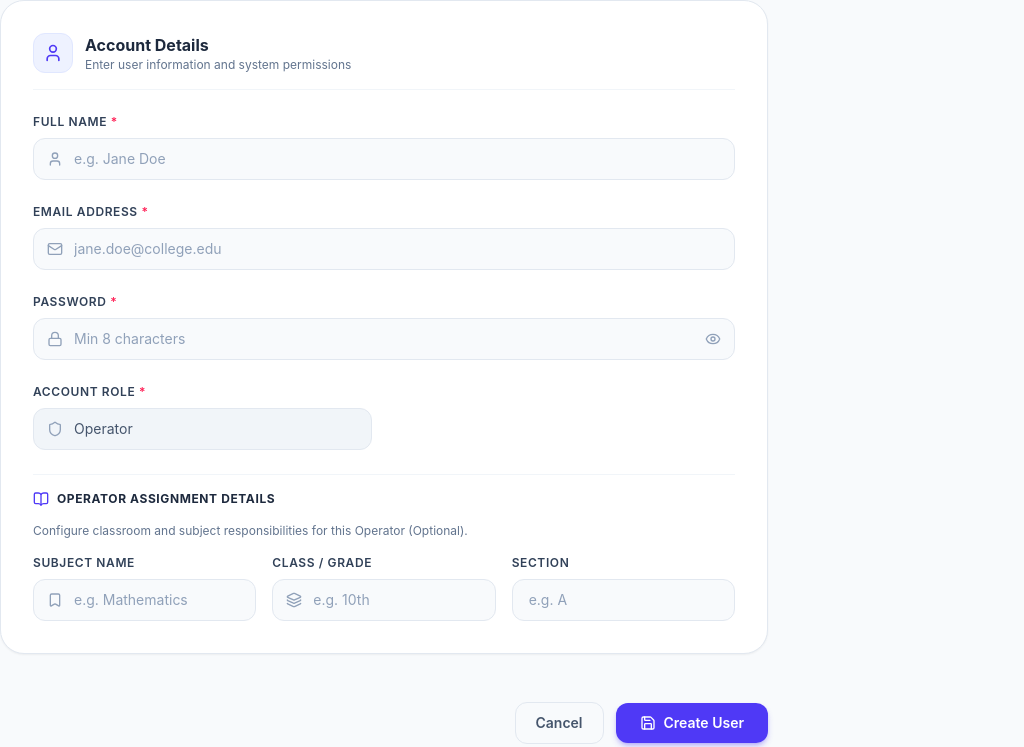
Test: GROUP E — USER UI COMPONENTS & FORMS › 6. UserForm validates invalid email format and short password
The image size is (1024, 747).
Type "Valid Name" into the field labelled "Full Name *" at (384, 159), box x1=33 y1=138 x2=735 y2=180
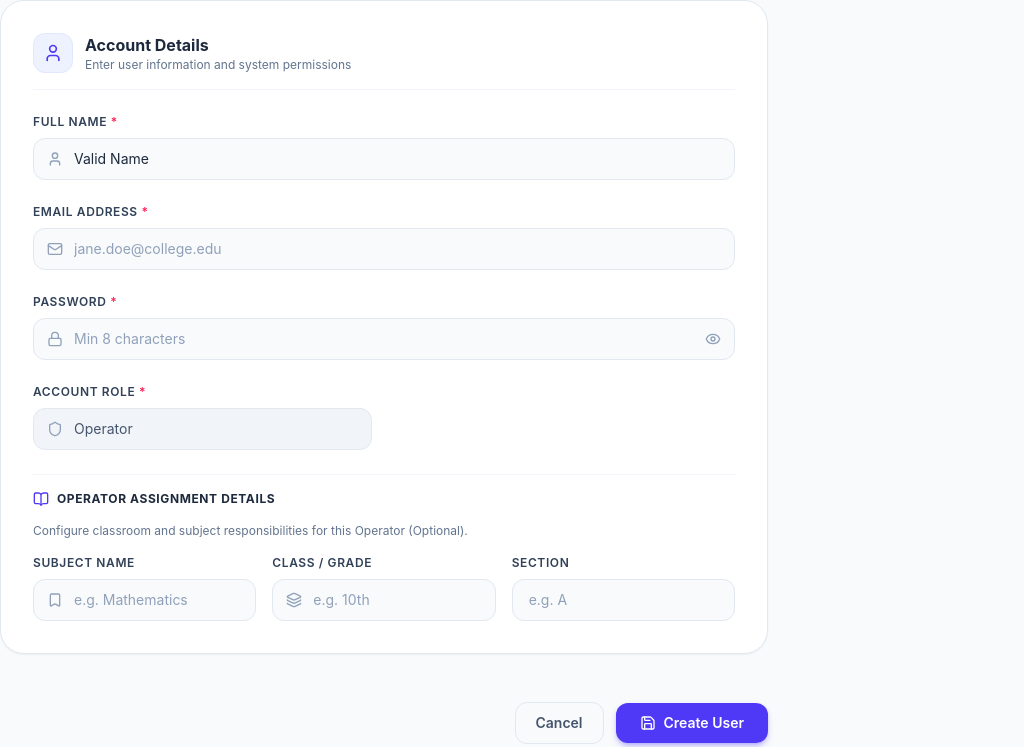
Type "not-an-email" into the field labelled "Email Address *" at (384, 249), box x1=33 y1=228 x2=735 y2=270
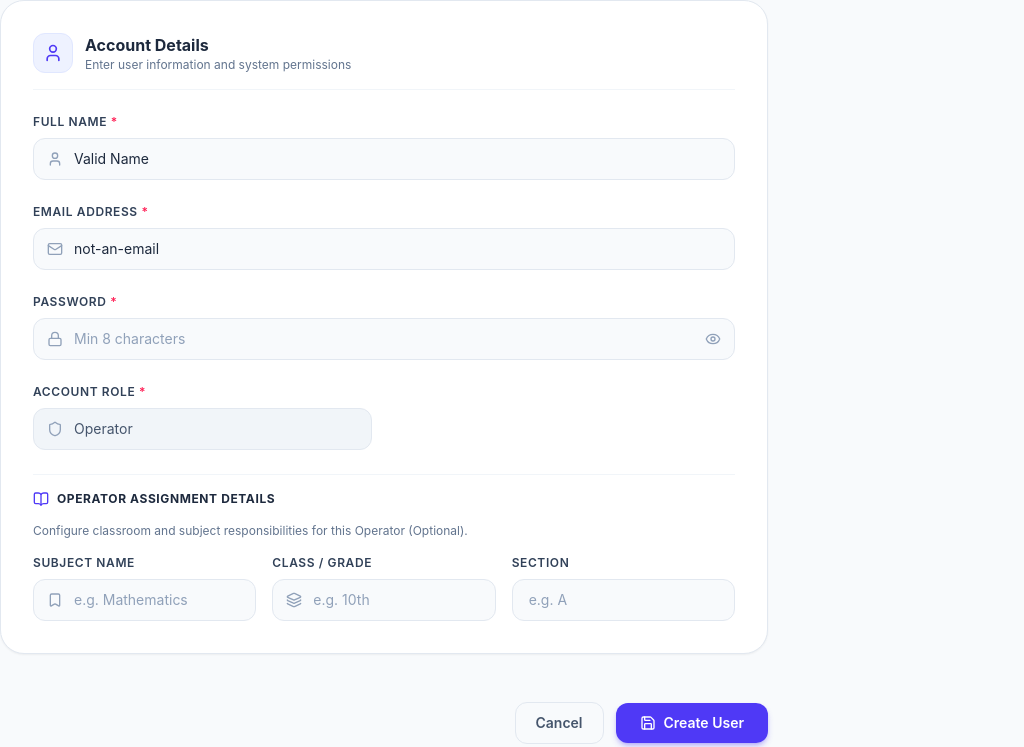
Type "123" into the password field with id "user-password" at (384, 339), box x1=33 y1=318 x2=735 y2=360
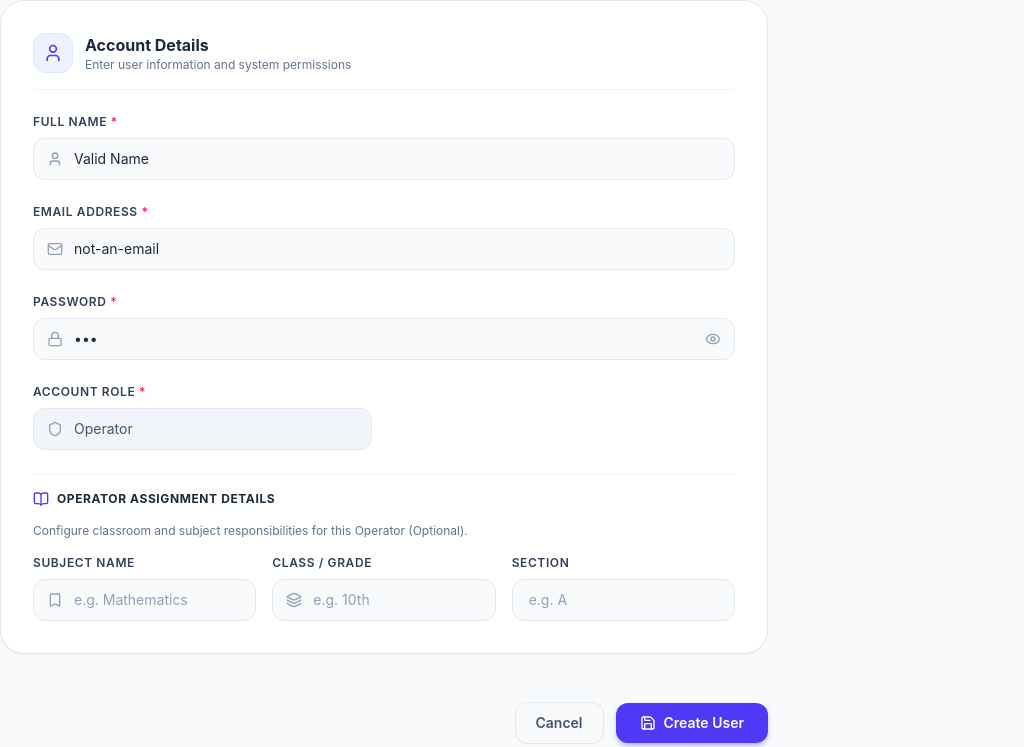
Click the button "Create User" at (692, 723), box x1=616 y1=703 x2=768 y2=743
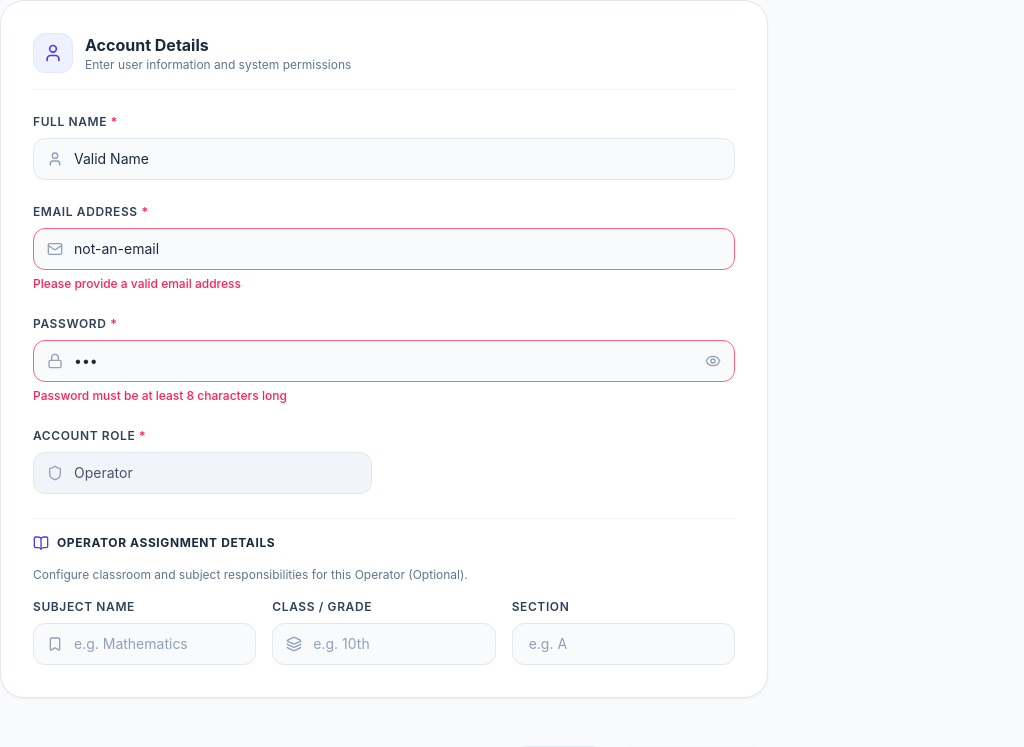
Check: the text "Please provide a valid email address" is shown, box x1=33 y1=276 x2=241 y2=291
Check: the text "Password must be at least 8 characters long" is shown, box x1=33 y1=388 x2=287 y2=403
